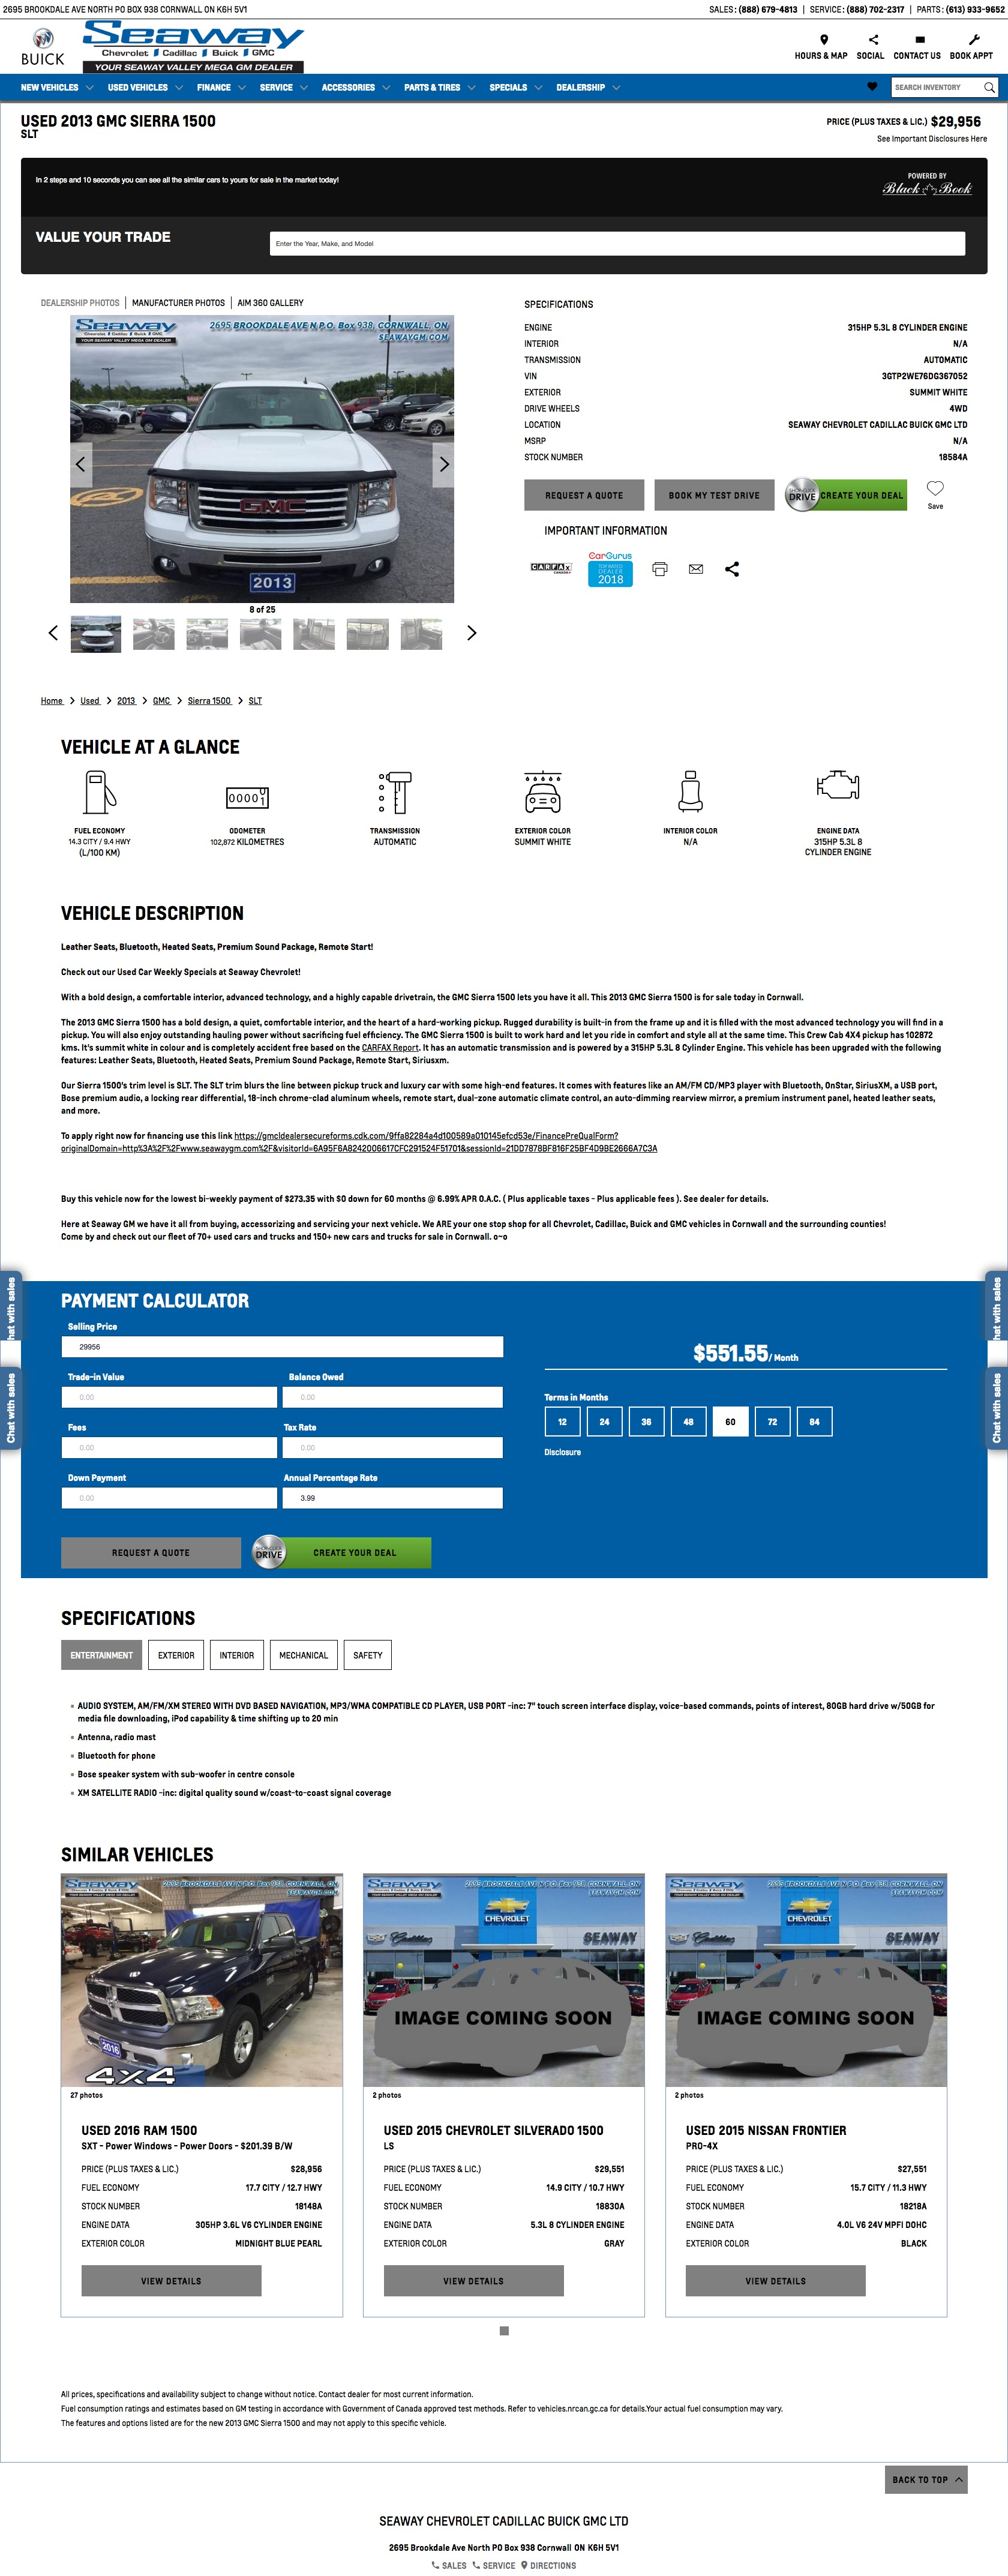car: (468, 626, 478, 641)
